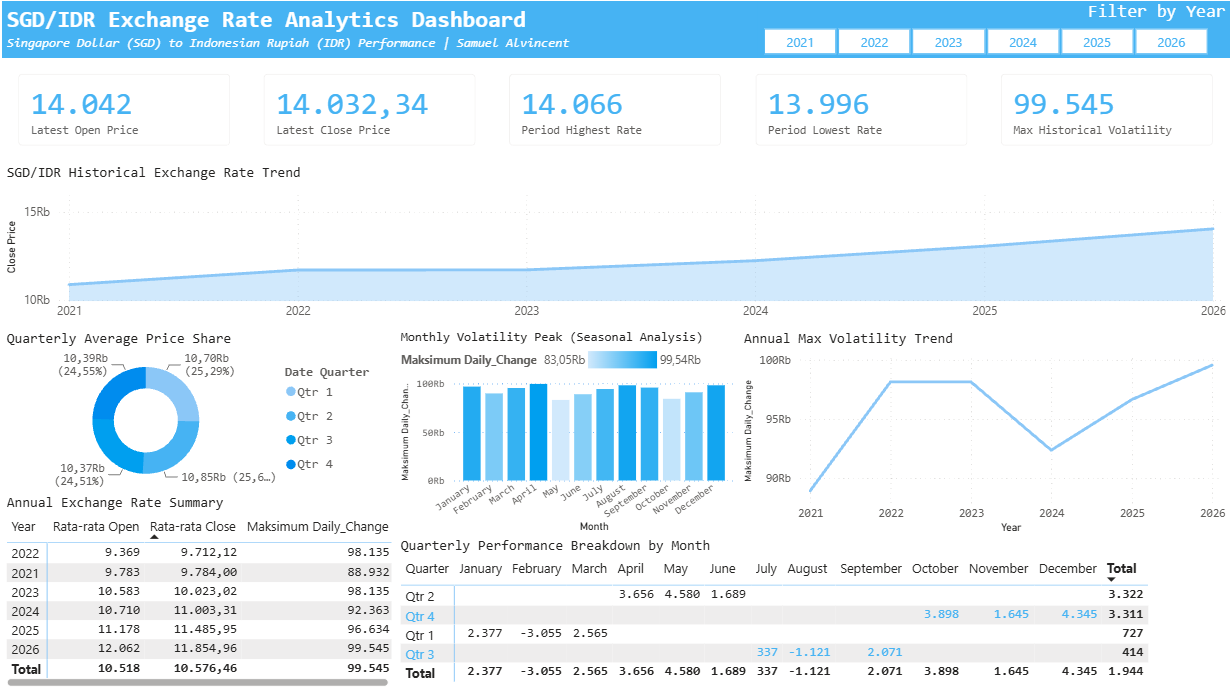

What the dashboard file says about the page in this screenshot:
{"tool":"powerbi","page":{"name":"Page 1","canvas":[1280,720],"ordinal":0},"visuals":[{"type":"group","id":"g1","title":"Group 1","box":[0,59.4,1280.2,109.9],"z":0},{"type":"cardVisual","fields":{"Data":["Max(pub?output=csv.Low)"]},"box":[768,59.4,256,109.5],"z":0,"group":"g1"},{"type":"cardVisual","fields":{"Data":["Max(pub?output=csv.High)"]},"box":[512,59.4,256,109.5],"z":1000,"group":"g1"},{"type":"areaChart","title":"SGD/IDR Historical Exchange Rate Trend","fields":{"Category":["pub?output=csv.Date.Variation.Date Hierarchy.Year","pub?output=csv.Date.Variation.Date Hierarchy.Quarter","pub?output=csv.Date.Variation.Date Hierarchy.Month","pub?output=csv.Date.Variation.Date Hierarchy.Day"],"Y":["Max(pub?output=csv.Close)"]},"box":[0,169.3,1280.2,172.3],"z":1000},{"type":"cardVisual","fields":{"Data":["Max(pub?output=csv.Close)"]},"box":[256,59.4,256,109.5],"z":2000,"group":"g1"},{"type":"pivotTable","title":"Annual Exchange Rate Summary","fields":{"Rows":["pub?output=csv.Date.Variation.Date Hierarchy.Year"],"Values":["Avg(pub?output=csv.Open)","Avg(pub?output=csv.Close)","Max(pub?output=csv.Daily_Change)"]},"box":[0,513.9,410.9,205.9],"z":2000},{"type":"slicer","title":"Filter by Year","fields":{"Values":["pub?output=csv.Date.Variation.Date Hierarchy.Year"]},"box":[768.3,0,511.9,59.4],"z":3000},{"type":"cardVisual","fields":{"Data":["Max(pub?output=csv.Open)"]},"box":[0,59.4,256,109.5],"z":3000,"group":"g1"},{"type":"cardVisual","fields":{"Data":["Max(pub?output=csv.Daily_Change)"]},"box":[1024,59.4,256,109.5],"z":4000,"group":"g1"},{"type":"donutChart","title":"Quarterly Average Price Share","fields":{"Category":["pub?output=csv.Date.Variation.Date Hierarchy.Quarter"],"Y":["Avg(pub?output=csv.Close)"]},"box":[0,341.6,410.9,172.3],"z":4000},{"type":"clusteredColumnChart","title":"Monthly Volatility Peak (Seasonal Analysis)","fields":{"Category":["pub?output=csv.Date.Variation.Date Hierarchy.Month"],"Y":["Max(pub?output=csv.Daily_Change)"]},"box":[410.9,341.6,357.4,216.8],"z":5000,"group":"g2"},{"type":"pivotTable","title":"Quarterly Performance Breakdown by Month","fields":{"Rows":["pub?output=csv.Date.Variation.Date Hierarchy.Quarter"],"Columns":["pub?output=csv.Date.Variation.Date Hierarchy.Month"],"Values":["Avg(pub?output=csv.Daily_Change)"]},"box":[410.9,558.4,791.1,161.4],"z":5000},{"type":"textbox","title":"ingapore Dollar (SGD) to Indonesian Rupiah (IDR) Performance Insights","box":[0,0,787.1,59.4],"z":6000},{"type":"lineChart","title":"Annual Max Volatility Trend","fields":{"Category":["pub?output=csv.Date.Variation.Date Hierarchy.Year"],"Y":["Max(pub?output=csv.Daily_Change)"]},"box":[768.3,341.6,511.9,216.8],"z":6000,"group":"g2"},{"type":"group","id":"g2","title":"Group 2","box":[410.9,341.6,869.3,216.8],"z":7000}]}

Visuals, with their boxes in screenshot pixels (x1, y1, x2, y2), scaled from the page's 1280x720 canvas onto the 1231x689 screenshot:
"Group 1" group: left=0, top=57, right=1230, bottom=162
cardVisual - Max(pub?output=csv.Low): left=739, top=57, right=985, bottom=162
cardVisual - Max(pub?output=csv.High): left=492, top=57, right=739, bottom=162
"SGD/IDR Historical Exchange Rate Trend" areaChart: left=0, top=162, right=1230, bottom=327
cardVisual - Max(pub?output=csv.Close): left=246, top=57, right=492, bottom=162
"Annual Exchange Rate Summary" pivotTable: left=0, top=492, right=395, bottom=688
"Filter by Year" slicer: left=739, top=0, right=1230, bottom=57
cardVisual - Max(pub?output=csv.Open): left=0, top=57, right=246, bottom=162
cardVisual - Max(pub?output=csv.Daily_Change): left=985, top=57, right=1230, bottom=162
"Quarterly Average Price Share" donutChart: left=0, top=327, right=395, bottom=492
"Monthly Volatility Peak (Seasonal Analysis)" clusteredColumnChart: left=395, top=327, right=739, bottom=534
"Quarterly Performance Breakdown by Month" pivotTable: left=395, top=534, right=1156, bottom=688
"ingapore Dollar (SGD) to Indonesian Rupiah (IDR) Performance Insights" textbox: left=0, top=0, right=757, bottom=57
"Annual Max Volatility Trend" lineChart: left=739, top=327, right=1230, bottom=534
"Group 2" group: left=395, top=327, right=1230, bottom=534
